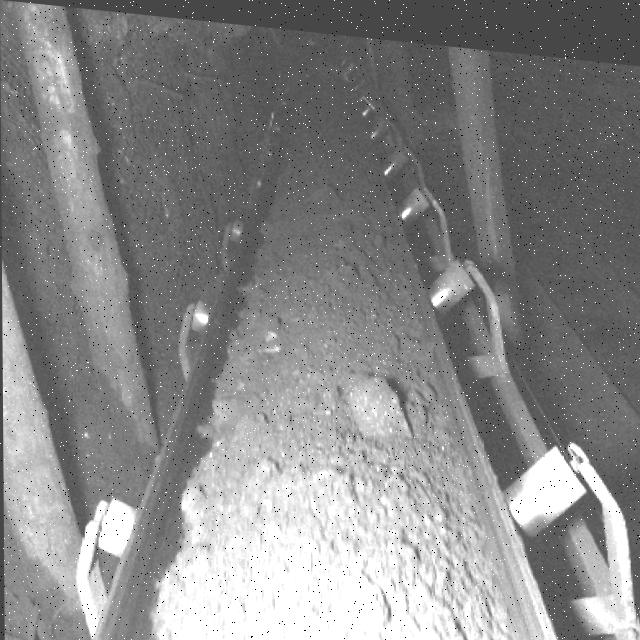large_sized_coal: (343, 367, 415, 435)
